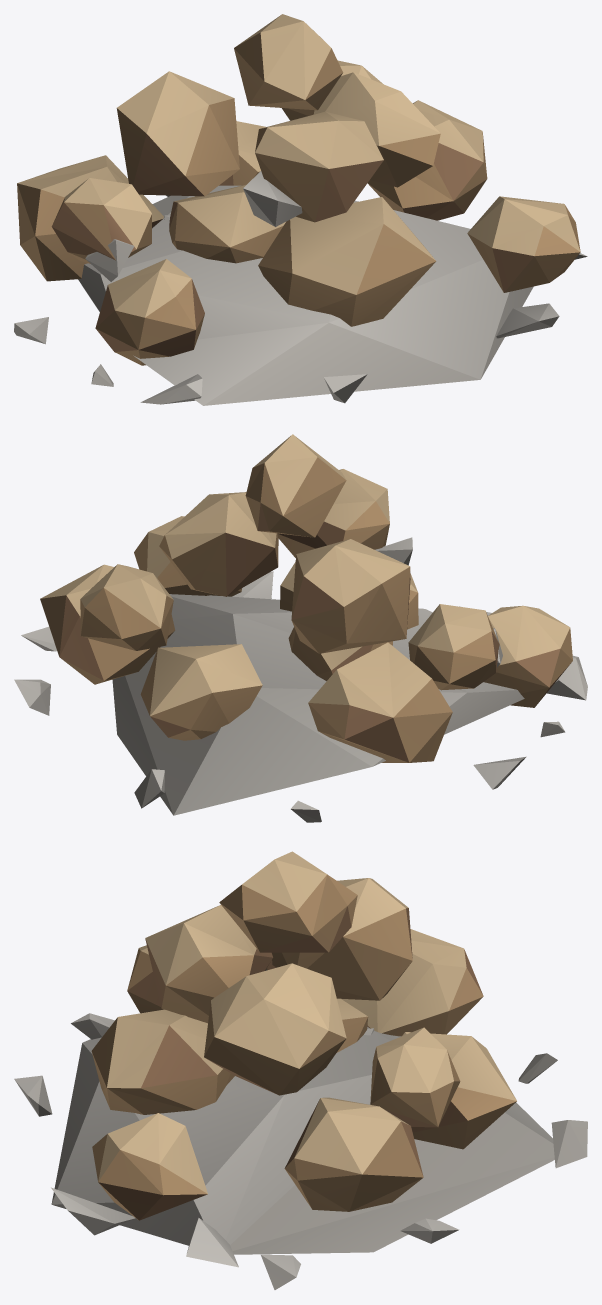
The model's file is ore_pile_low.glb.
The picture shows the model from 3 angles, top to bottom: view 1: azimuth 30°, elevation 25°; view 2: azimuth 150°, elevation 25°; view 3: azimuth 270°, elevation 25°; orthographic projection. The views are drawn at different scales.
Size of the model in its own units: 1.01 by 0.5628 by 0.9031.
